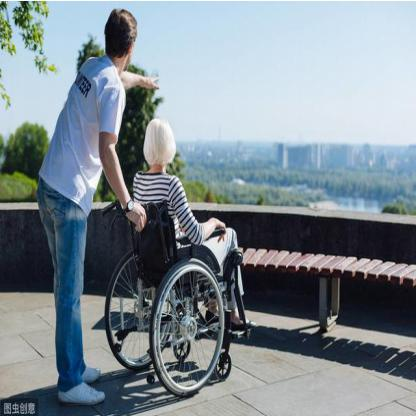wheelchair: (105, 113, 251, 398)
